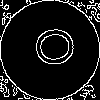O: (25, 25, 76, 70)
